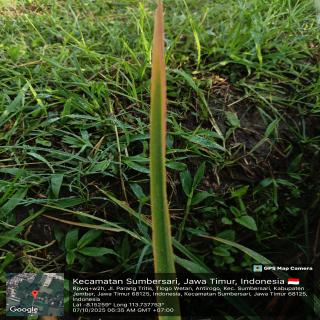Hawar-Daun: (150, 0, 164, 160)
